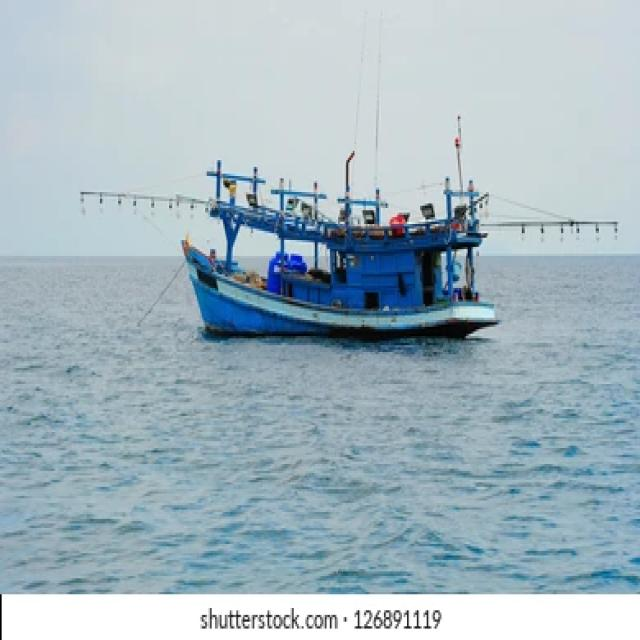Fishing Boat: (112, 84, 574, 418)
